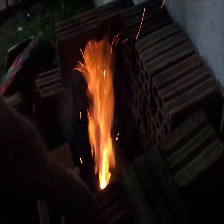fire: (77, 34, 126, 188)
